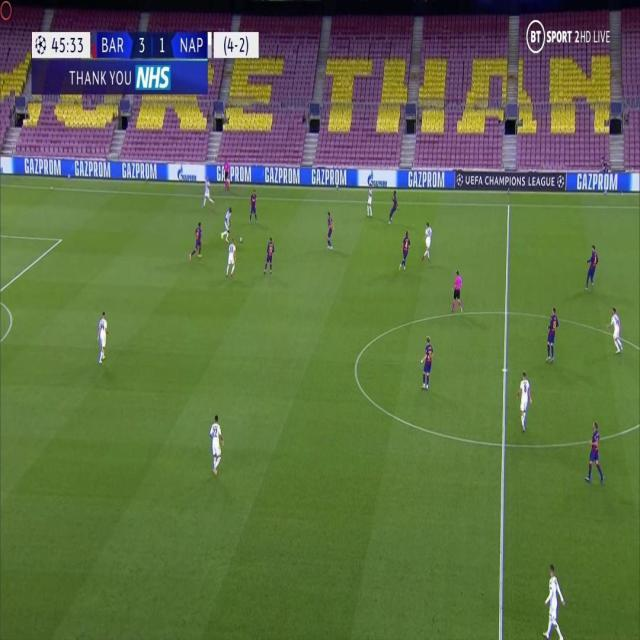ball: (238, 234, 244, 243)
player: (543, 560, 566, 639), (586, 418, 605, 485), (208, 412, 225, 477), (516, 369, 533, 433), (544, 305, 560, 364), (418, 334, 434, 392), (583, 244, 600, 292), (607, 304, 623, 354), (95, 308, 109, 365), (189, 220, 203, 262), (399, 228, 412, 270), (421, 219, 433, 263), (263, 234, 275, 276), (201, 171, 214, 208), (226, 238, 238, 277), (387, 189, 399, 225), (365, 173, 375, 216), (248, 186, 259, 225), (221, 206, 233, 241), (324, 208, 334, 250)
referee: (451, 267, 464, 315), (223, 158, 231, 193)
